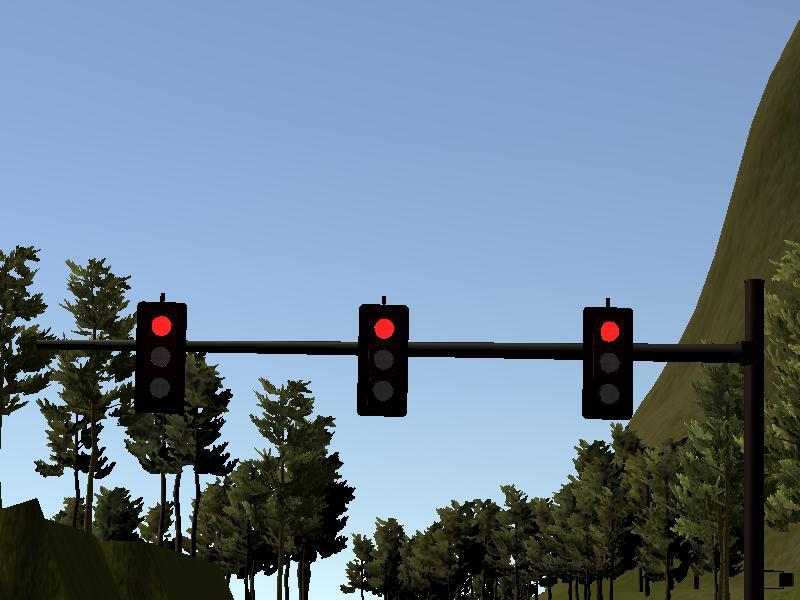Red: (358, 305, 407, 414), (585, 307, 632, 419), (140, 303, 185, 410)
